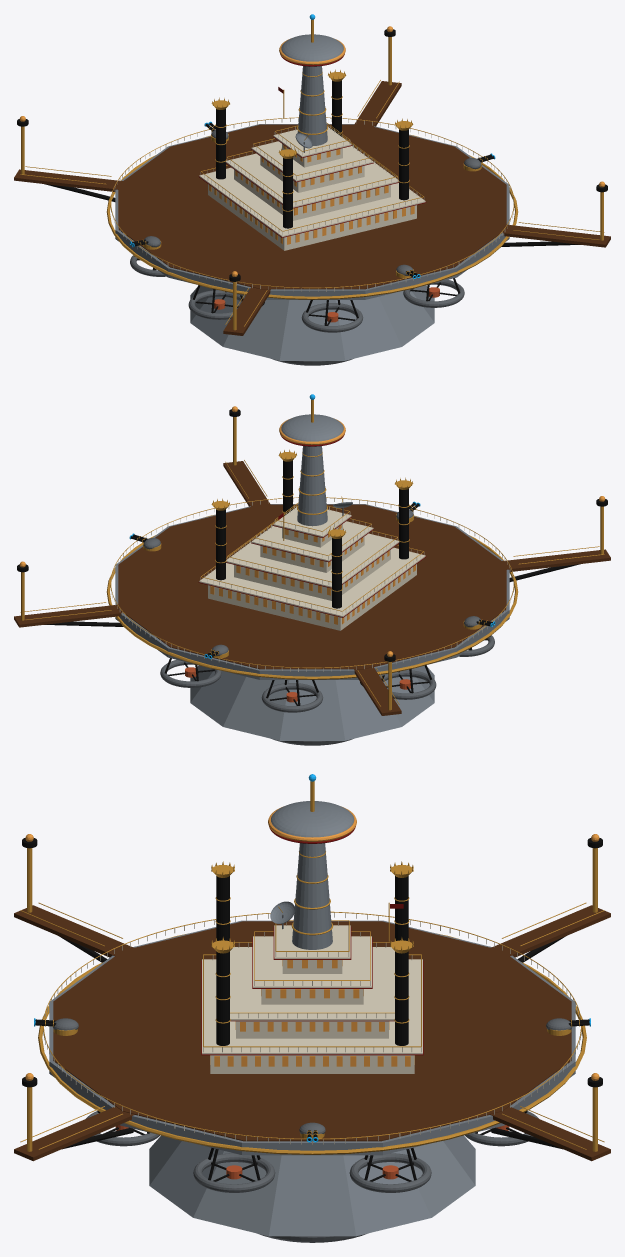
The model's file is station_command.obj.
3 renders of one model, top to bottom at view 1: azimuth 30°, elevation 25°; view 2: azimuth 150°, elevation 25°; view 3: azimuth 270°, elevation 25°, orthographic. The views are drawn at different scales.
Parts seen in each view (by area): view 1: station_command; view 2: station_command; view 3: station_command.
Boxes of the visible parts, x1,y1,x2,y2 form: station_command: [14, 14, 610, 365]; station_command: [14, 394, 610, 745]; station_command: [14, 774, 610, 1242].
Bounding box in the file's own units: 1500 × 1207 × 1500.
Materials: 1 (1 with a texture image).
